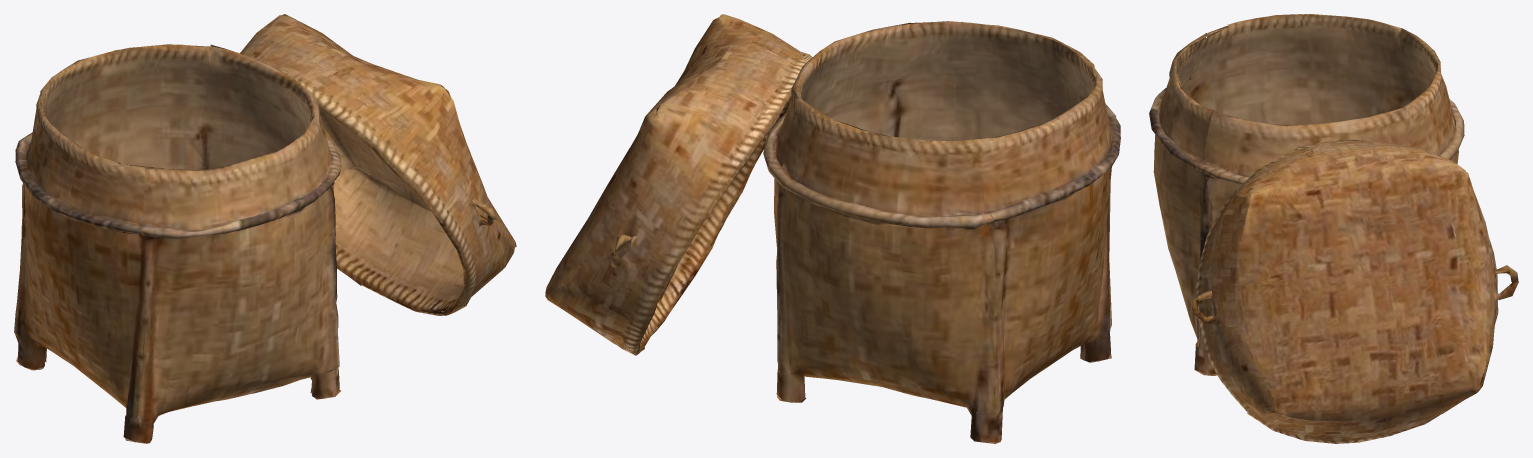
File: polyhaven-wicker_basket_02.glb
3 renders of one model, left to right at view 1: azimuth 30°, elevation 25°; view 2: azimuth 150°, elevation 25°; view 3: azimuth 270°, elevation 25°, orthographic. The views are drawn at different scales.
Parts seen in each view (by area): view 1: wicker_basket_02_base, wicker_basket_02_lid; view 2: wicker_basket_02_base, wicker_basket_02_lid; view 3: wicker_basket_02_lid, wicker_basket_02_base.
Part boxes in pixels (<box>): wicker_basket_02_base: <box>14,44,341,443</box>; wicker_basket_02_lid: <box>240,14,516,315</box>; wicker_basket_02_base: <box>763,21,1120,443</box>; wicker_basket_02_lid: <box>545,14,812,355</box>; wicker_basket_02_lid: <box>1191,140,1518,443</box>; wicker_basket_02_base: <box>1149,14,1464,375</box>.
Bounding box in the file's own units: 0.6494 × 0.376 × 0.4767.
1 material, 1 textured.
